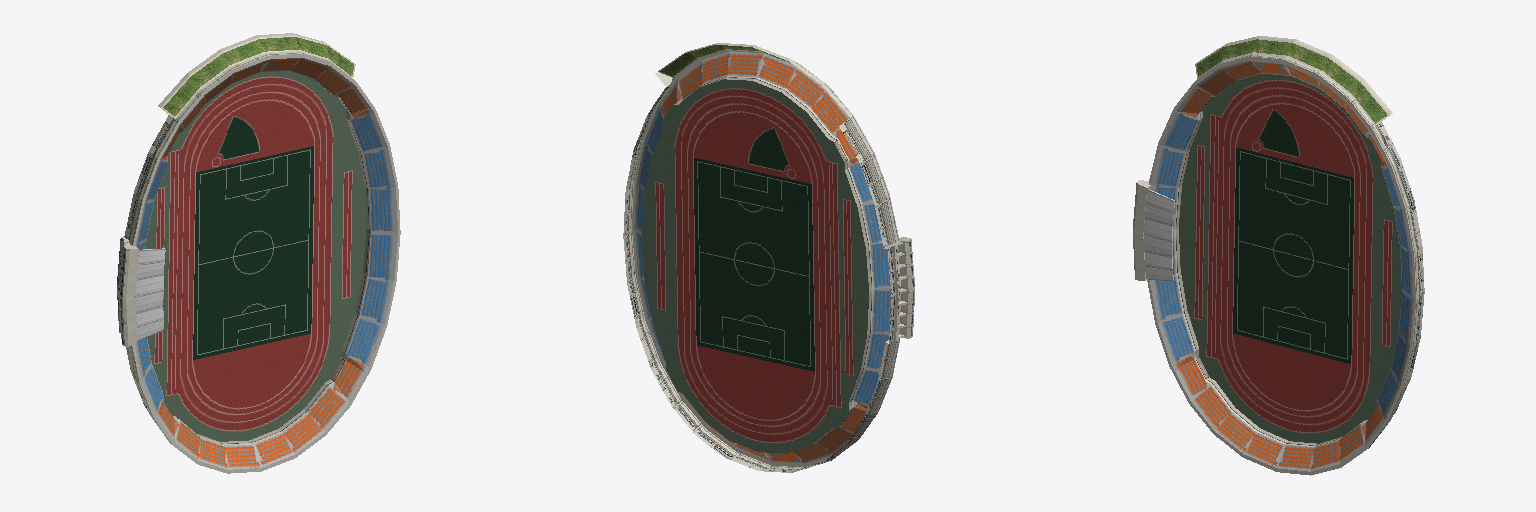
3 views of the same model, side by side, from view 1: azimuth 30°, elevation 25°; view 2: azimuth 150°, elevation 25°; view 3: azimuth 330°, elevation 25° (orthographic).
Parts seen in each view (by area): view 1: KOR_TD0003_GYN_MIRYANG_PUB_PG; view 2: KOR_TD0003_GYN_MIRYANG_PUB_PG; view 3: KOR_TD0003_GYN_MIRYANG_PUB_PG.
Part boxes in pixels (x1,y1,x2,y2): KOR_TD0003_GYN_MIRYANG_PUB_PG: (117,33,400,473); KOR_TD0003_GYN_MIRYANG_PUB_PG: (623,43,914,472); KOR_TD0003_GYN_MIRYANG_PUB_PG: (1133,36,1424,475).
Size of the model in its own units: 138 by 200 by 13.6.
1 materials, 1 textured.